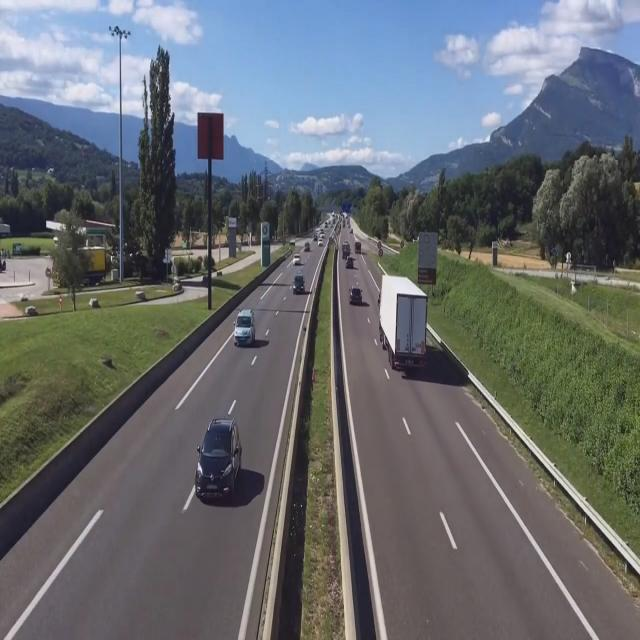car: (196, 414, 243, 504), (234, 308, 256, 347), (349, 284, 363, 308), (293, 273, 305, 294)
truck: (376, 274, 429, 379)
